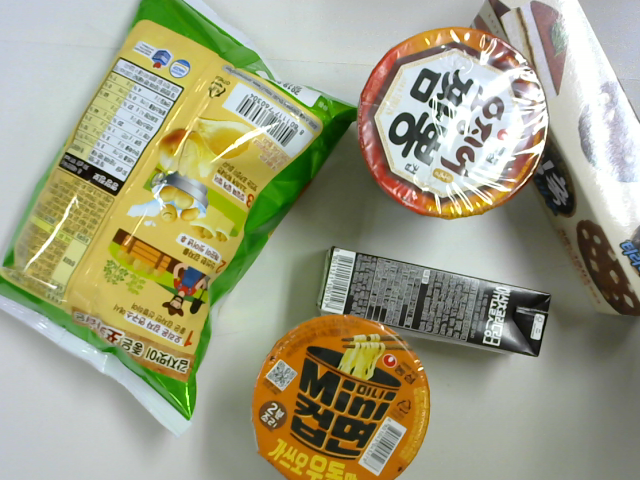Chicchok_Tiramisu: (469, 1, 640, 318)
Hush_Choco_Drink: (318, 240, 559, 360)
Ojjam: (354, 31, 550, 217)
Pocachip_Onion: (4, 10, 357, 403)
Udongmini: (247, 318, 431, 480)
